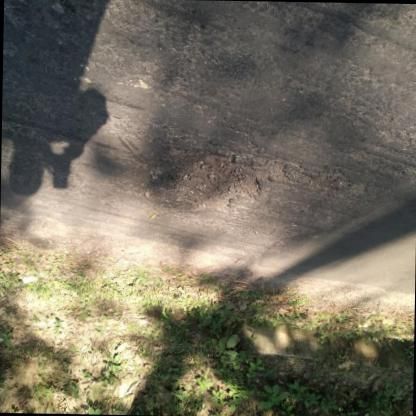pothole: (166, 144, 294, 216)
